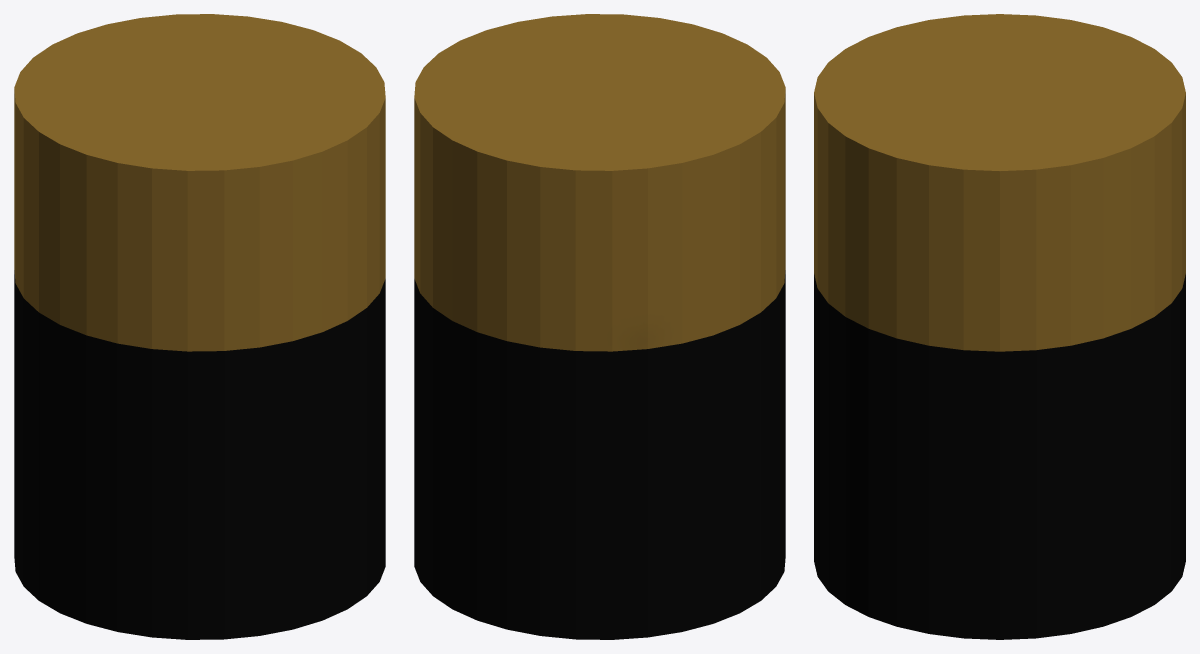
File: Pila.fbx
3 renders of one model, left to right at view 1: azimuth 30°, elevation 25°; view 2: azimuth 150°, elevation 25°; view 3: azimuth 270°, elevation 25°, orthographic.
Visible parts, largest first — view 1: Cylinder; view 2: Cylinder; view 3: Cylinder.
Part boxes in pixels (x1,y1,x2,y2): Cylinder: [14, 14, 385, 639]; Cylinder: [414, 14, 785, 639]; Cylinder: [814, 14, 1185, 639].
Size of the model in its own units: 200 by 278 by 200.
